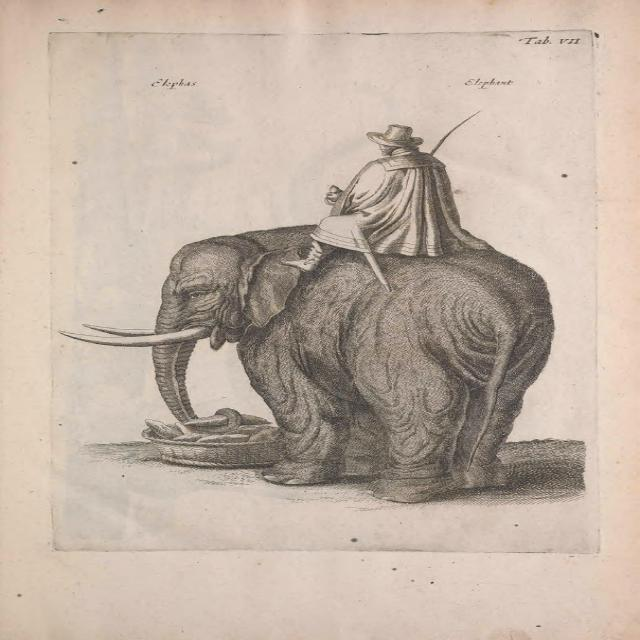elephant: (44, 194, 584, 506)
